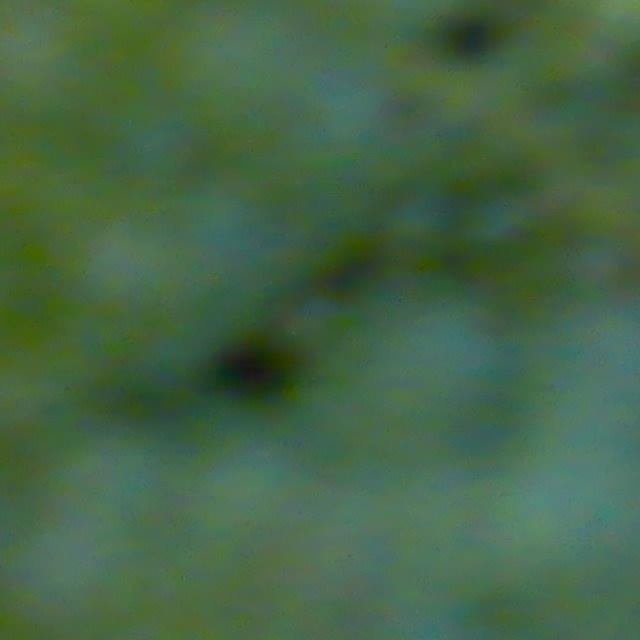SeaGrape: (59, 209, 241, 379), (274, 66, 400, 208), (0, 0, 93, 149), (163, 19, 263, 124)
